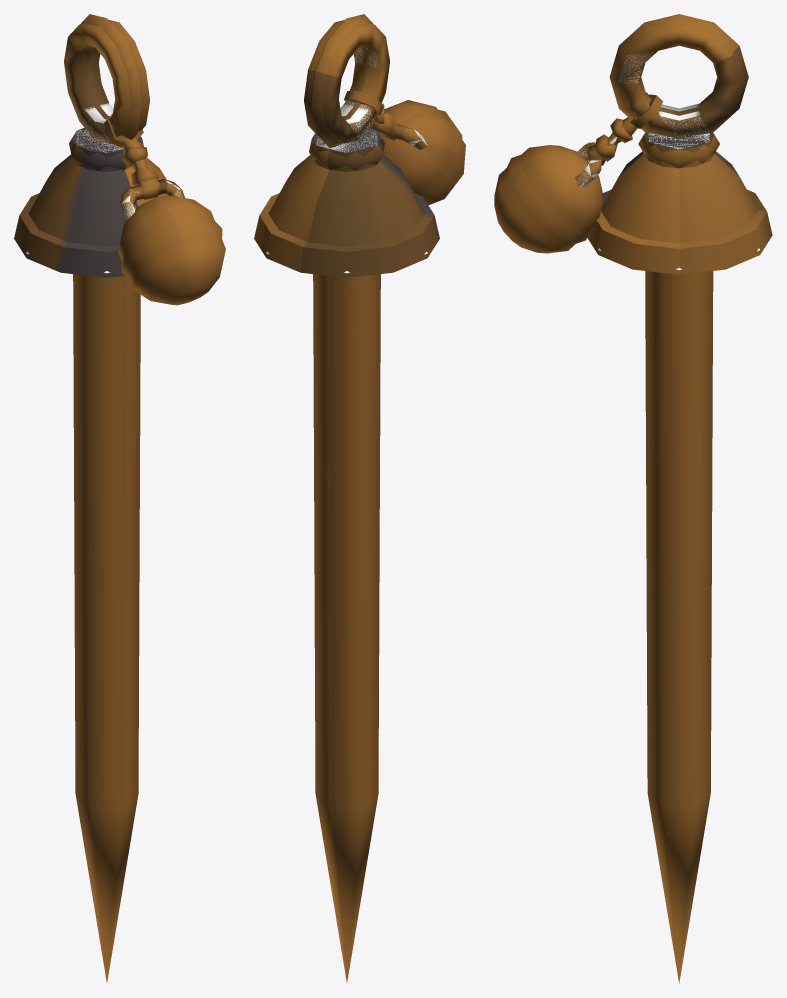
Rendered from objects_un_slshrine01_pile_sw.gltf.
3 renders of one model, left to right at view 1: azimuth 30°, elevation 25°; view 2: azimuth 150°, elevation 25°; view 3: azimuth 270°, elevation 25°, orthographic.
Visible parts, largest first — view 1: um_objects_un_slshrine01_pile_sw_model_lod0Shape:objects_un_ (×2), um_objects_un_slshrine01_pile_sw_model_lod1Shape:objects_un_; view 2: um_objects_un_slshrine01_pile_sw_model_lod0Shape:objects_un_ (×2), um_objects_un_slshrine01_pile_sw_model_lod1Shape:objects_un_; view 3: um_objects_un_slshrine01_pile_sw_model_lod0Shape:objects_un_ (×2), um_objects_un_slshrine01_pile_sw_model_lod1Shape:objects_un_.
Boxes of the visible parts, x1,y1,x2,y2 form: um_objects_un_slshrine01_pile_sw_model_lod0Shape:objects_un_ (×2): [14, 20, 225, 982]; um_objects_un_slshrine01_pile_sw_model_lod1Shape:objects_un_: [69, 14, 222, 279]; um_objects_un_slshrine01_pile_sw_model_lod0Shape:objects_un_ (×2): [254, 20, 465, 982]; um_objects_un_slshrine01_pile_sw_model_lod1Shape:objects_un_: [309, 14, 462, 200]; um_objects_un_slshrine01_pile_sw_model_lod0Shape:objects_un_ (×2): [494, 24, 772, 983]; um_objects_un_slshrine01_pile_sw_model_lod1Shape:objects_un_: [506, 14, 748, 243].
Size of the model in its own units: 0.3851 by 2.21 by 0.5735.
2 materials, 1 textured.
